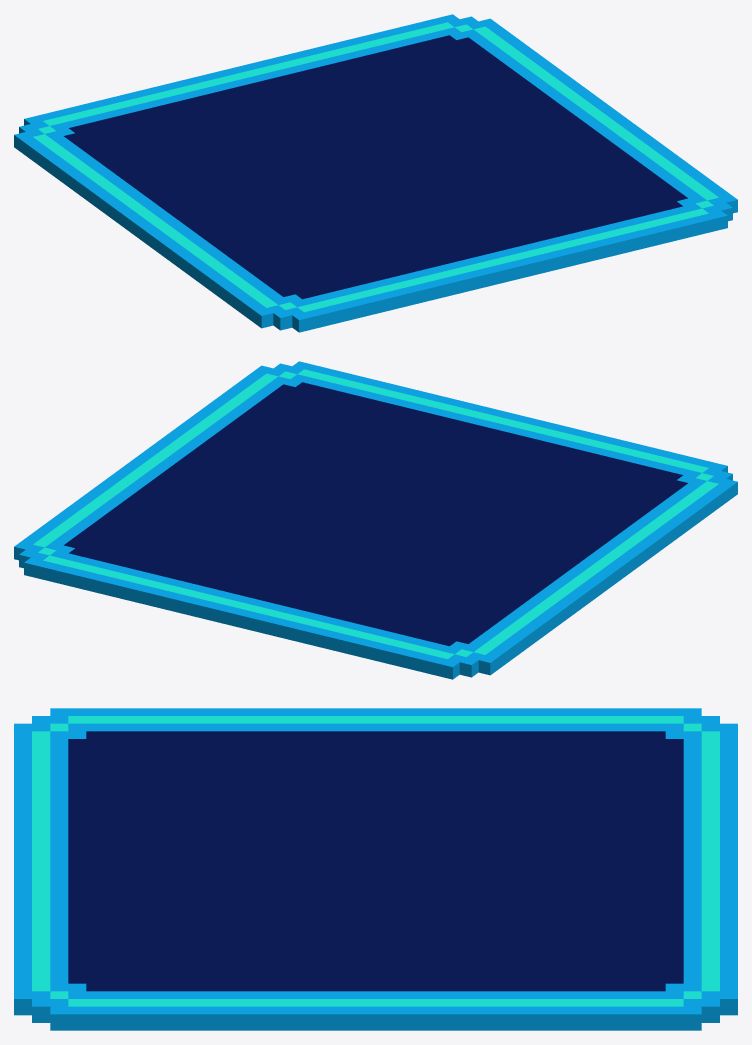
Rendered from Test_Tile.obj.
3 renders of one model, top to bottom at view 1: azimuth 30°, elevation 25°; view 2: azimuth 150°, elevation 25°; view 3: azimuth 270°, elevation 25°, orthographic. The views are drawn at different scales.
Size of the model in its own units: 4 by 0.1 by 4.
Materials: 1 (1 with a texture image).
